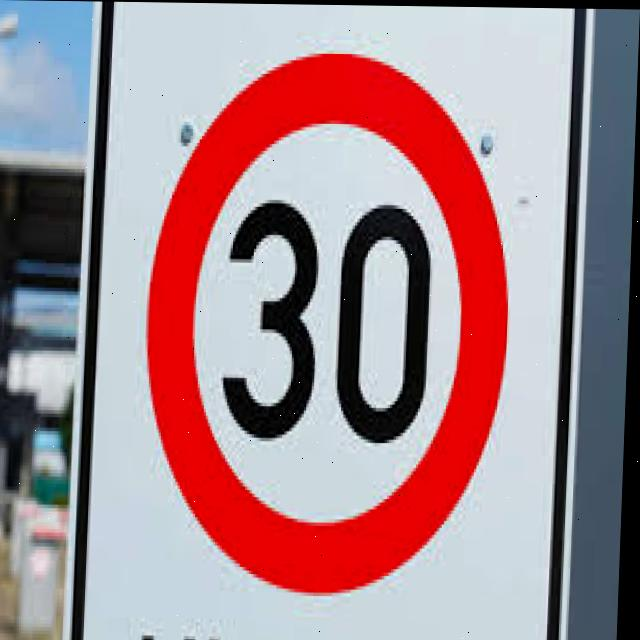Speed limit 30: (138, 45, 521, 598)
